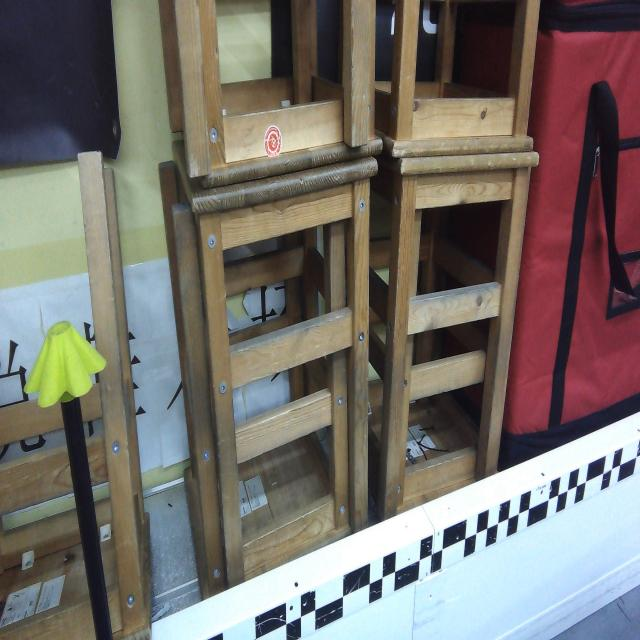Yellow-Stake-Head: (23, 320, 107, 408)
